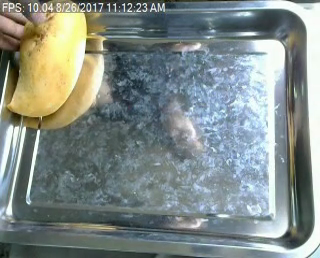Mango: (10, 1, 86, 122)
